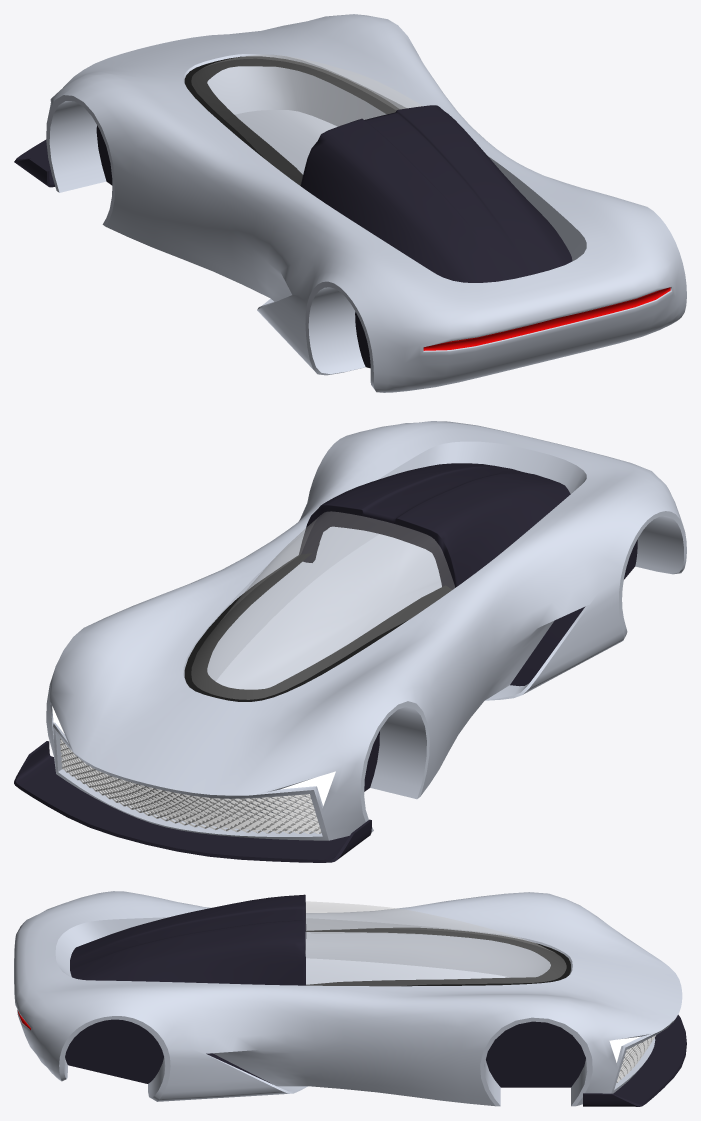
File: Car.glb
3 views of the same model, one above another, from view 1: azimuth 30°, elevation 25°; view 2: azimuth 150°, elevation 25°; view 3: azimuth 270°, elevation 25° (orthographic). The views are drawn at different scales.
Visible parts, largest first — view 1: Car; view 2: Car; view 3: Car.
Part boxes in pixels (<box>): Car: <box>14,14,686,392</box>; Car: <box>14,421,686,862</box>; Car: <box>14,891,686,1106</box>.
Bounding box in the file's own units: 2.02 × 0.9461 × 4.43.
